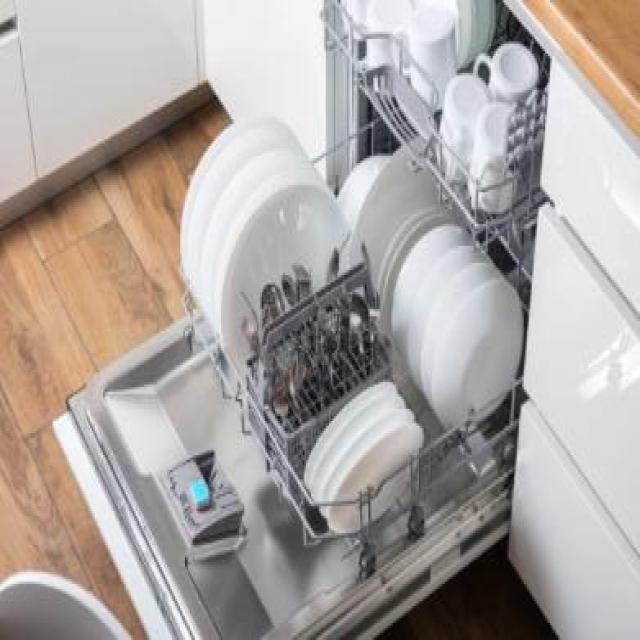dishwasher: (38, 0, 550, 638)
